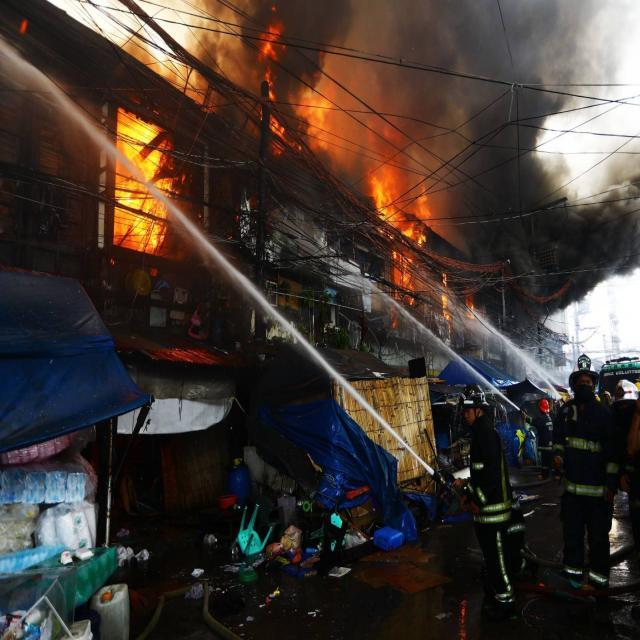Fire: (105, 96, 197, 272), (368, 157, 430, 305), (248, 16, 289, 140), (296, 81, 338, 157)
Smoke: (436, 0, 639, 321), (188, 0, 348, 146)
